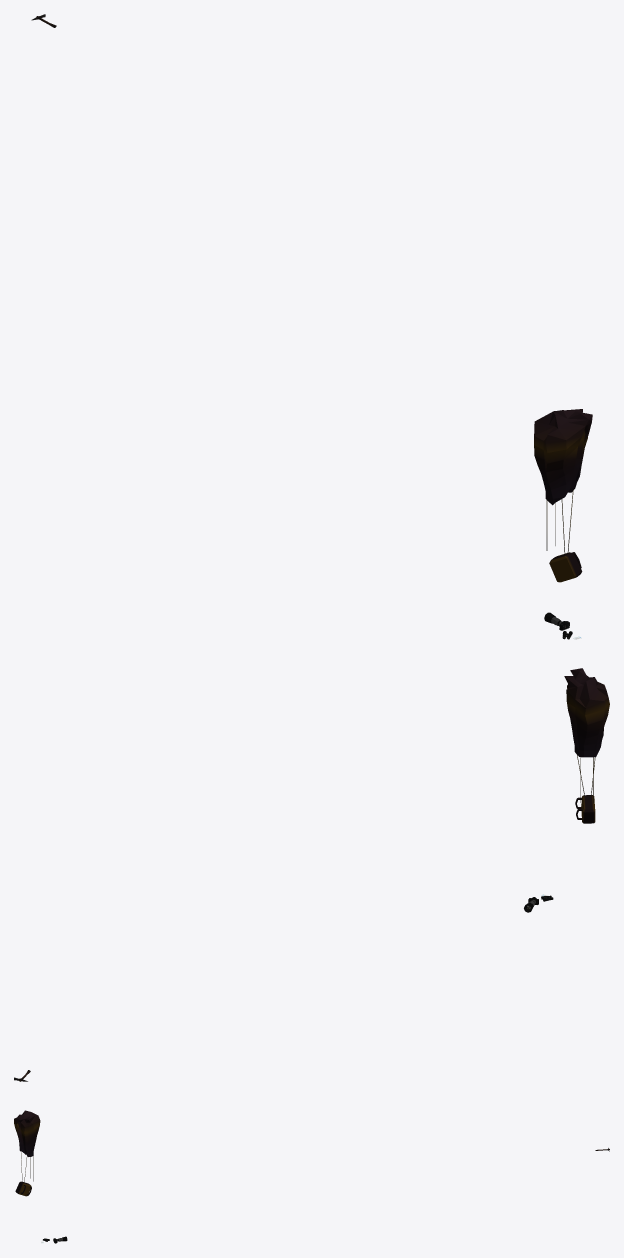
Rendered from level1Misc_grp 1.fbx.
The picture shows the model from 3 angles, top to bottom: view 1: azimuth 30°, elevation 25°; view 2: azimuth 150°, elevation 25°; view 3: azimuth 270°, elevation 25°; orthographic projection. The views are drawn at different scales.
Parts seen in each view (by area): view 1: parachute_01, parachuteBag_01; view 2: parachute_01, parachuteBag_01; view 3: parachute_01, parachuteBag_01.
Boxes of the visible parts, bbox=[...] form: parachute_01: bbox=[534, 409, 592, 550]; parachuteBag_01: bbox=[549, 490, 582, 582]; parachute_01: bbox=[564, 668, 609, 803]; parachuteBag_01: bbox=[575, 755, 595, 823]; parachute_01: bbox=[14, 1110, 40, 1181]; parachuteBag_01: bbox=[15, 1151, 31, 1196].
Size of the model in its own units: 144 by 374 by 1640.
3 materials, 2 textured.
